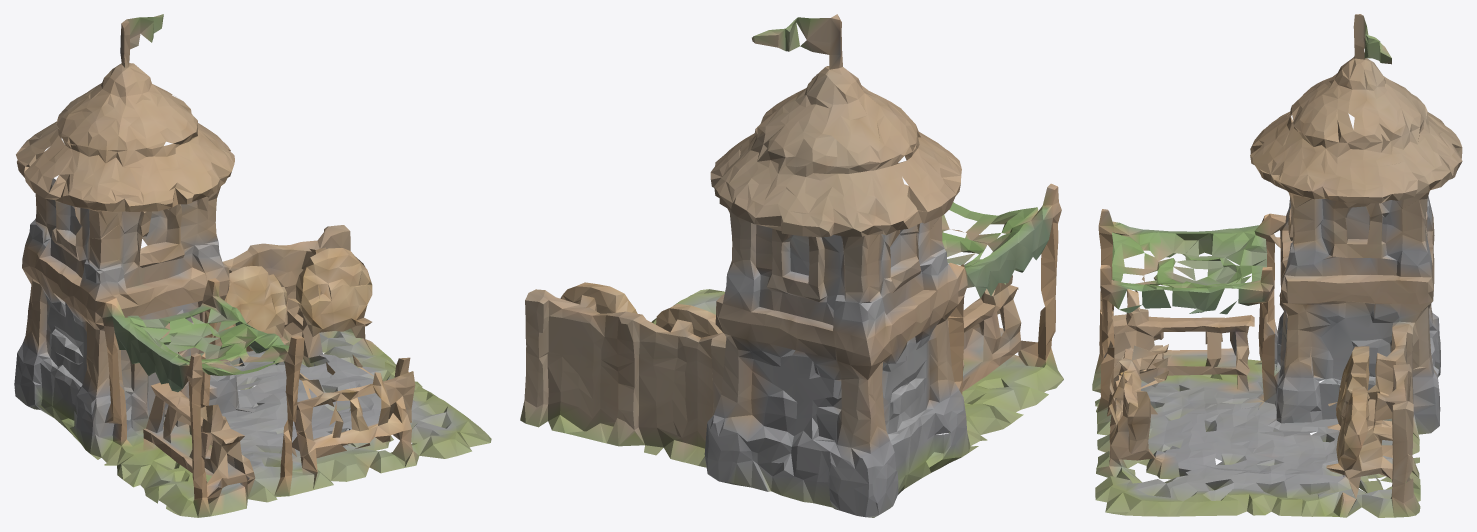
Rendered from building_archery_range_lod2.glb.
3 views of the same model, side by side, from view 1: azimuth 30°, elevation 25°; view 2: azimuth 150°, elevation 25°; view 3: azimuth 270°, elevation 25° (orthographic). The views are drawn at different scales.
Visible parts, largest first — view 1: world; view 2: world; view 3: world.
Part boxes in pixels (<box>): world: <box>14,14,491,517</box>; world: <box>520,14,1063,517</box>; world: <box>1092,14,1462,517</box>.
Size of the model in its own units: 1.75 by 1.89 by 1.66.
